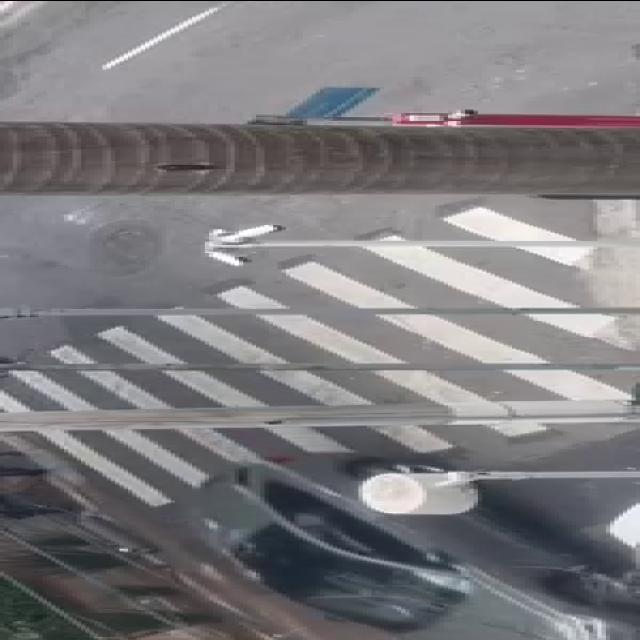car: (162, 451, 640, 631)
